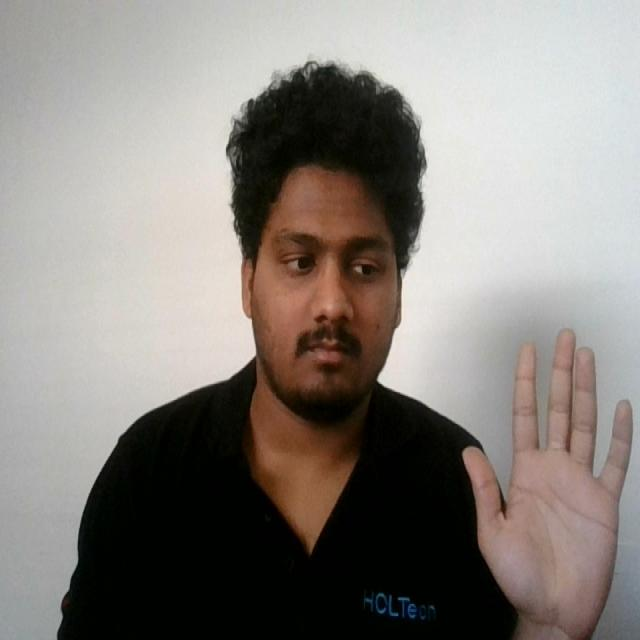Hello: (455, 320, 640, 640)
